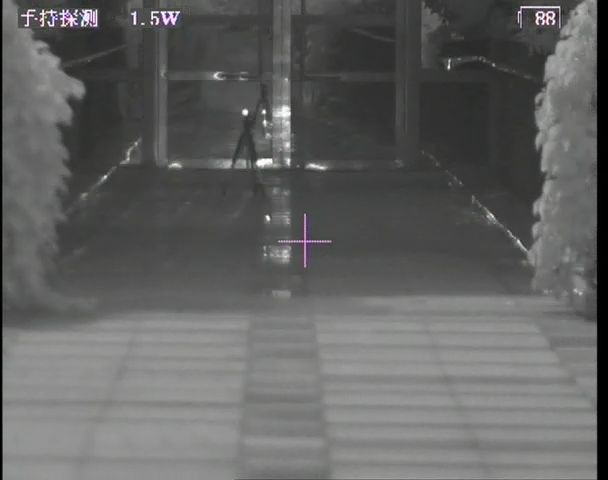my: (241, 106, 250, 118)
